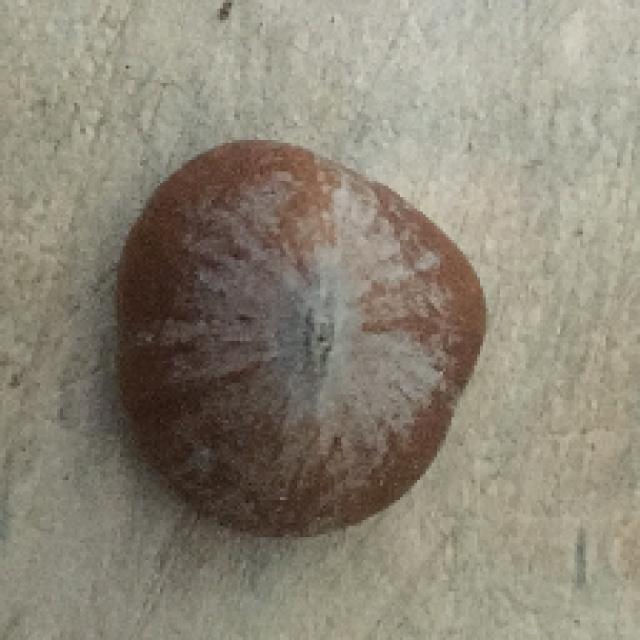qualityHazelnut: (117, 139, 487, 539)
